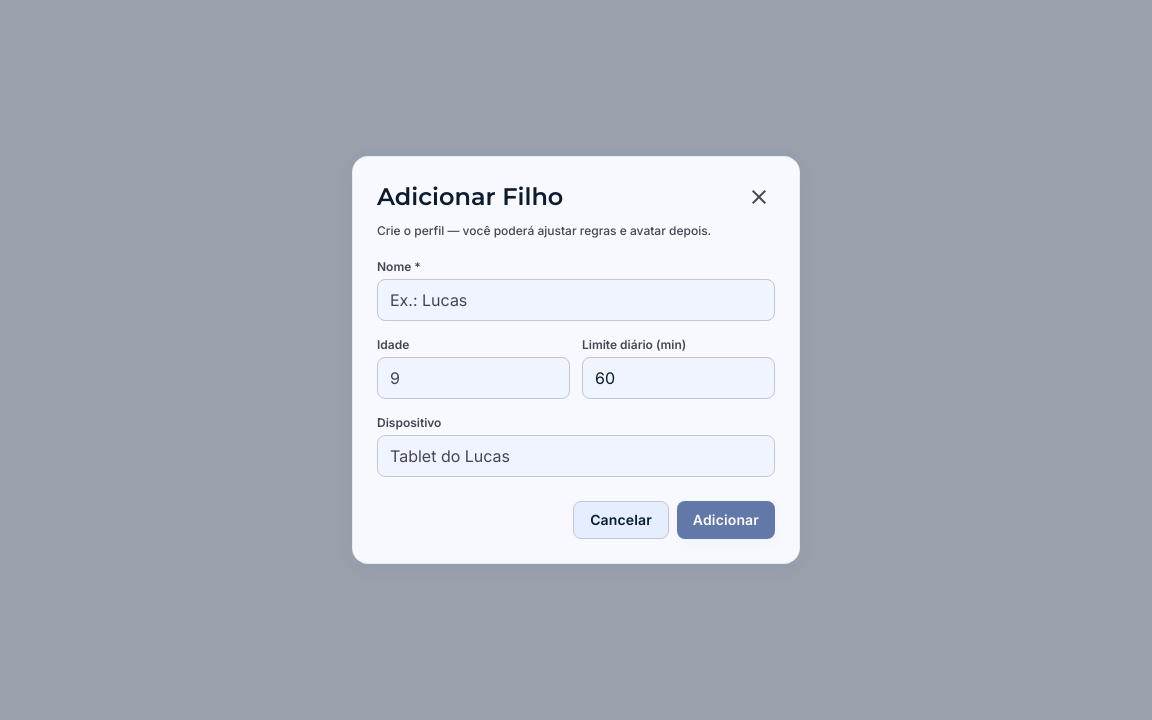
AddChildDialog › shows ApiError message + status when mutation fails
Type "Rafael" into the field labelled "Nome *" at x=576, y=300, box [377,279,775,321]
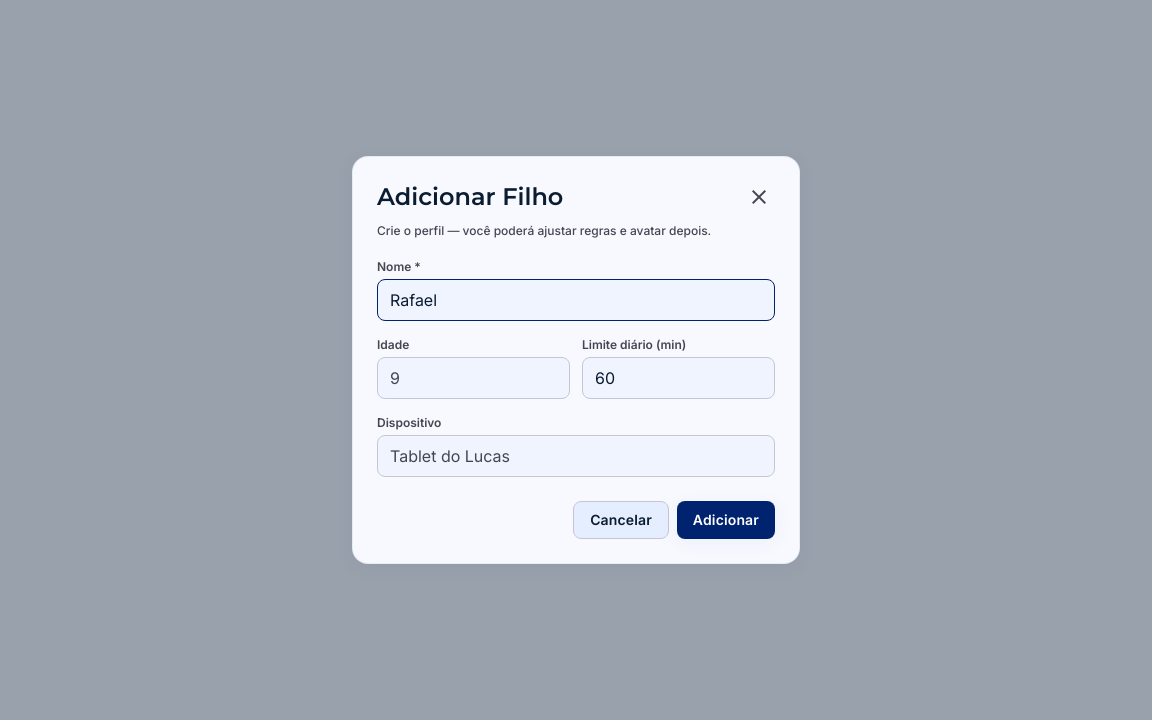
Submit the form named "nome *", box [352,156,800,564]
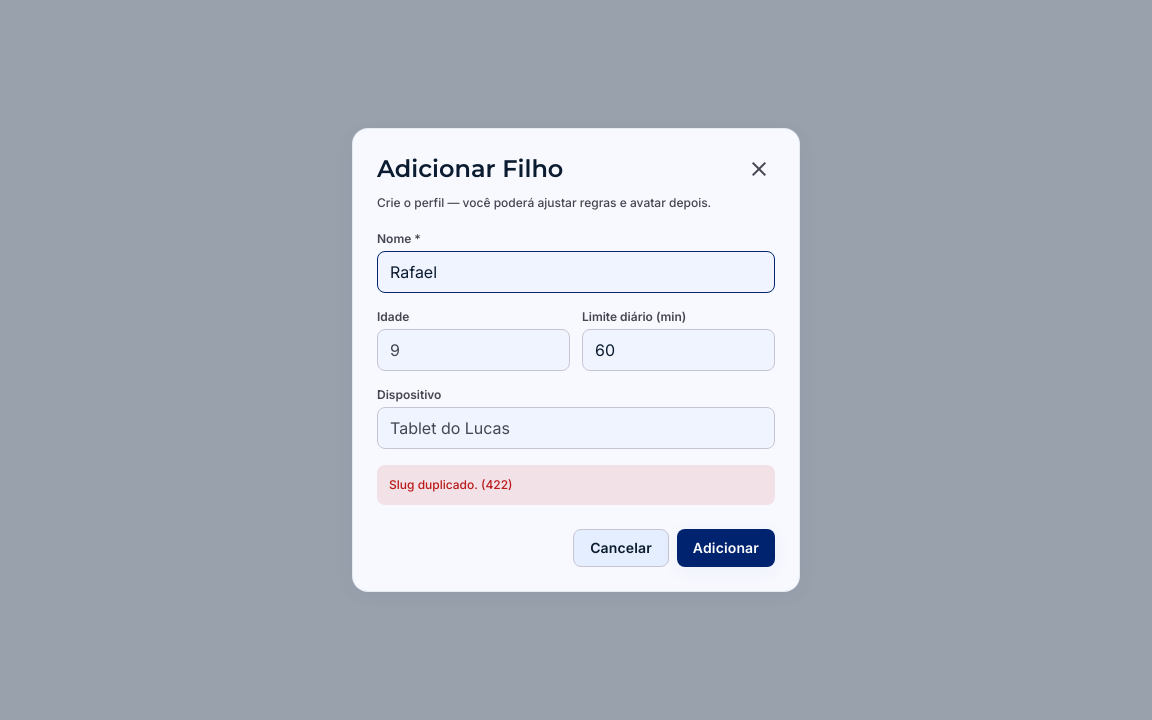
Expected: the message reads "Slug duplicado. (422)", [389,477,512,492]
